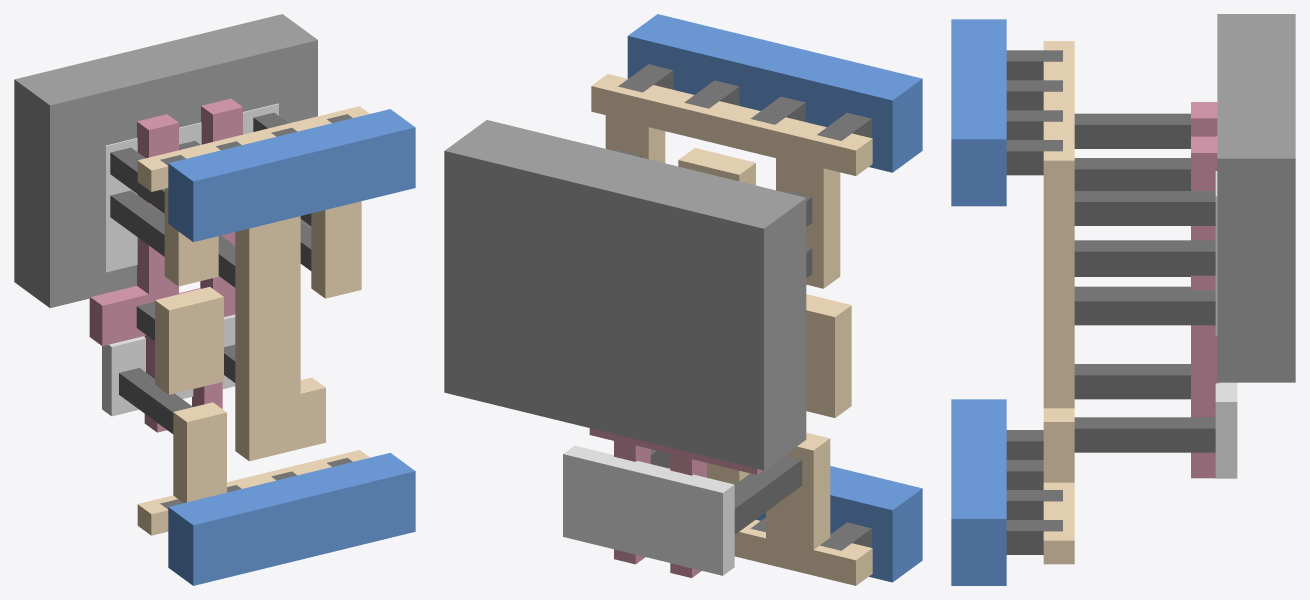
Rendered from sky130_fd_sc_hd__clkinvlp_2.gds.gltf.
3 views of the same model, side by side, from view 1: azimuth 30°, elevation 25°; view 2: azimuth 150°, elevation 25°; view 3: azimuth 270°, elevation 25° (orthographic). The views are drawn at different scales.
Visible parts, largest first — view 1: sky130_fd_sc_hd__clkinvlp_2_met1, sky130_fd_sc_hd__clkinvlp_2_li1, sky130_fd_sc_hd__clkinvlp_2_nwell, sky130_fd_sc_hd__clkinvlp_2_poly, sky130_fd_sc_hd__clkinvlp_2_licon, sky130_fd_sc_hd__clkinvlp_2_diff, sky130_fd_sc_hd__clkinvlp_2_mcon; view 2: sky130_fd_sc_hd__clkinvlp_2_nwell, sky130_fd_sc_hd__clkinvlp_2_li1, sky130_fd_sc_hd__clkinvlp_2_met1, sky130_fd_sc_hd__clkinvlp_2_diff, sky130_fd_sc_hd__clkinvlp_2_mcon, sky130_fd_sc_hd__clkinvlp_2_licon, sky130_fd_sc_hd__clkinvlp_2_poly; view 3: sky130_fd_sc_hd__clkinvlp_2_licon, sky130_fd_sc_hd__clkinvlp_2_nwell, sky130_fd_sc_hd__clkinvlp_2_met1, sky130_fd_sc_hd__clkinvlp_2_li1, sky130_fd_sc_hd__clkinvlp_2_mcon, sky130_fd_sc_hd__clkinvlp_2_poly, sky130_fd_sc_hd__clkinvlp_2_diff.
Part boxes in pixels (box(x1,y1,x2,y2)): sky130_fd_sc_hd__clkinvlp_2_met1: box(168, 109, 415, 585); sky130_fd_sc_hd__clkinvlp_2_li1: box(137, 106, 369, 535); sky130_fd_sc_hd__clkinvlp_2_nwell: box(14, 14, 317, 307); sky130_fd_sc_hd__clkinvlp_2_poly: box(89, 98, 242, 432); sky130_fd_sc_hd__clkinvlp_2_licon: box(110, 112, 311, 433); sky130_fd_sc_hd__clkinvlp_2_diff: box(102, 103, 278, 416); sky130_fd_sc_hd__clkinvlp_2_mcon: box(160, 114, 352, 509); sky130_fd_sc_hd__clkinvlp_2_nwell: box(444, 120, 806, 470); sky130_fd_sc_hd__clkinvlp_2_li1: box(591, 74, 872, 585); sky130_fd_sc_hd__clkinvlp_2_met1: box(627, 14, 922, 582); sky130_fd_sc_hd__clkinvlp_2_diff: box(563, 445, 734, 575); sky130_fd_sc_hd__clkinvlp_2_mcon: box(618, 64, 871, 550); sky130_fd_sc_hd__clkinvlp_2_licon: box(615, 149, 812, 534); sky130_fd_sc_hd__clkinvlp_2_poly: box(589, 428, 763, 577); sky130_fd_sc_hd__clkinvlp_2_licon: box(1074, 113, 1215, 452); sky130_fd_sc_hd__clkinvlp_2_nwell: box(1217, 14, 1295, 382); sky130_fd_sc_hd__clkinvlp_2_met1: box(951, 19, 1006, 585); sky130_fd_sc_hd__clkinvlp_2_li1: box(1043, 41, 1074, 564); sky130_fd_sc_hd__clkinvlp_2_mcon: box(1006, 50, 1062, 554); sky130_fd_sc_hd__clkinvlp_2_poly: box(1191, 102, 1218, 478); sky130_fd_sc_hd__clkinvlp_2_diff: box(1215, 136, 1237, 478).
Bounding box in the file's own units: 2.22 × 3.2 × 2.24.
